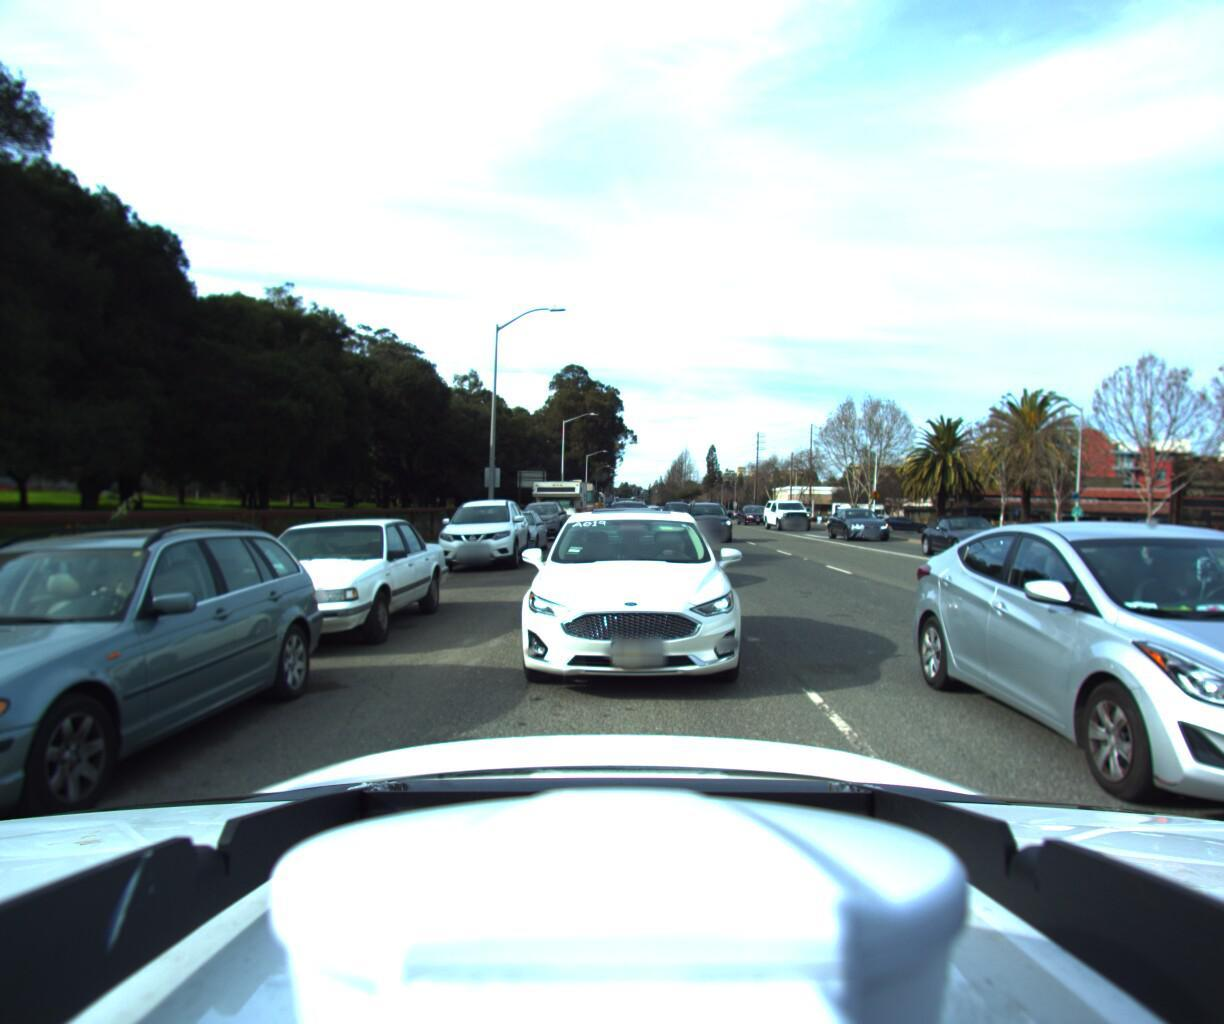car: (0, 501, 345, 885), (896, 513, 1224, 876), (493, 493, 752, 720), (181, 508, 457, 662), (566, 495, 676, 591), (425, 493, 541, 574), (922, 513, 1037, 565), (473, 504, 557, 557), (578, 499, 649, 561), (510, 499, 575, 544), (599, 499, 653, 548), (827, 507, 899, 542), (682, 500, 736, 542), (761, 496, 815, 530), (877, 503, 948, 528), (658, 499, 694, 529), (733, 505, 769, 526), (612, 492, 637, 513)
other_vehicle: (519, 475, 591, 535), (546, 473, 599, 528), (568, 484, 605, 523)
